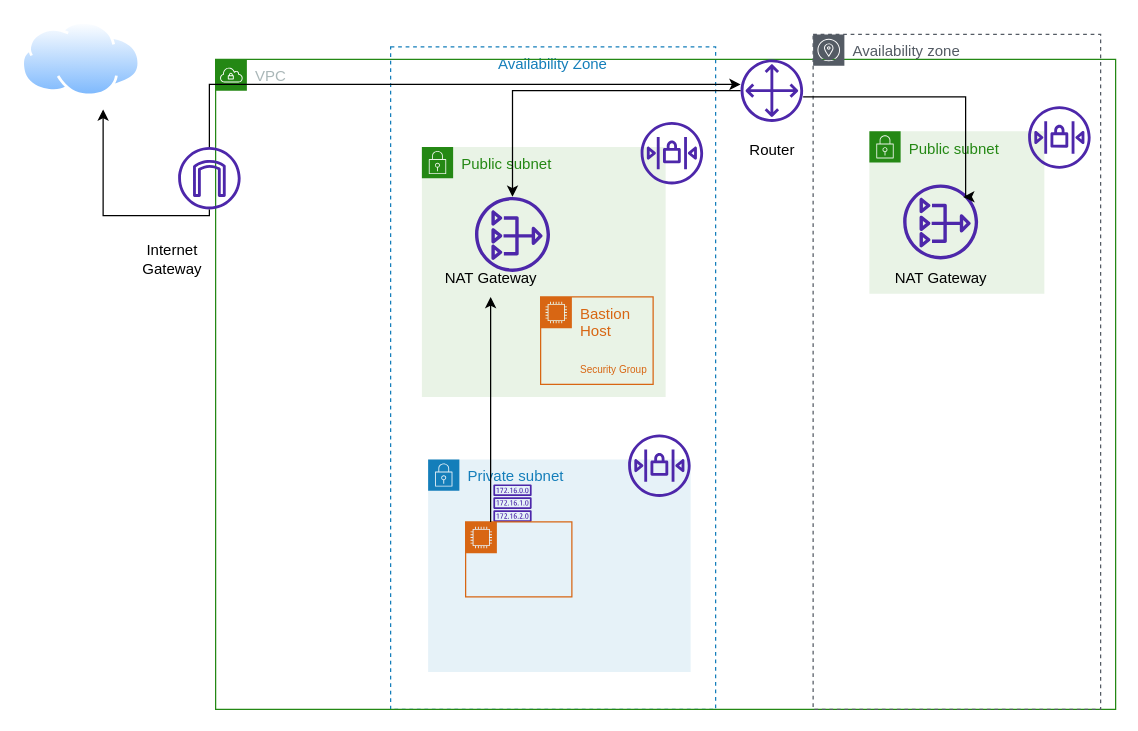
Image size: 1138x731. Some labels were removed from this diagram. The centre of each missing label's shape, as x and y in pixels:
EC2 private Security Group: [518,559]
Internet: [80,58]
NACL: [1059,137]
